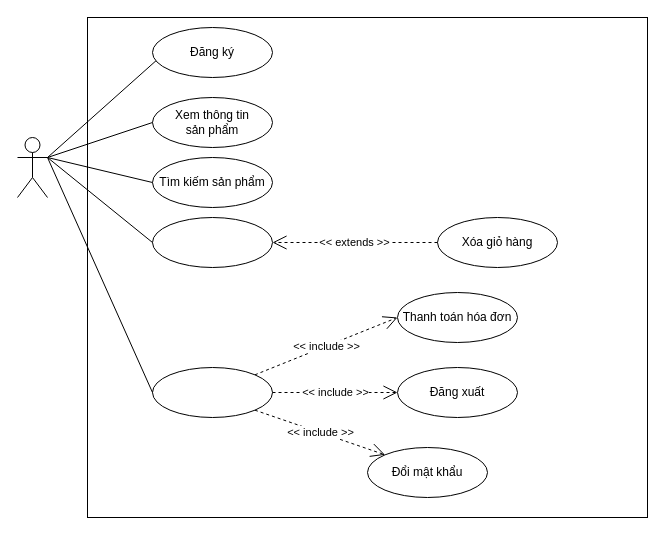
The diagram is 665 pixels wide and 535 high, and some of its shapes have lost their labels. Here are the shapes that lost their labels. From the top down, the centre of each, then its label:
At (32,167): "Actor".
At (212,242): "Thêm giỏ hàng".
At (212,392): "Đăng nhập".
